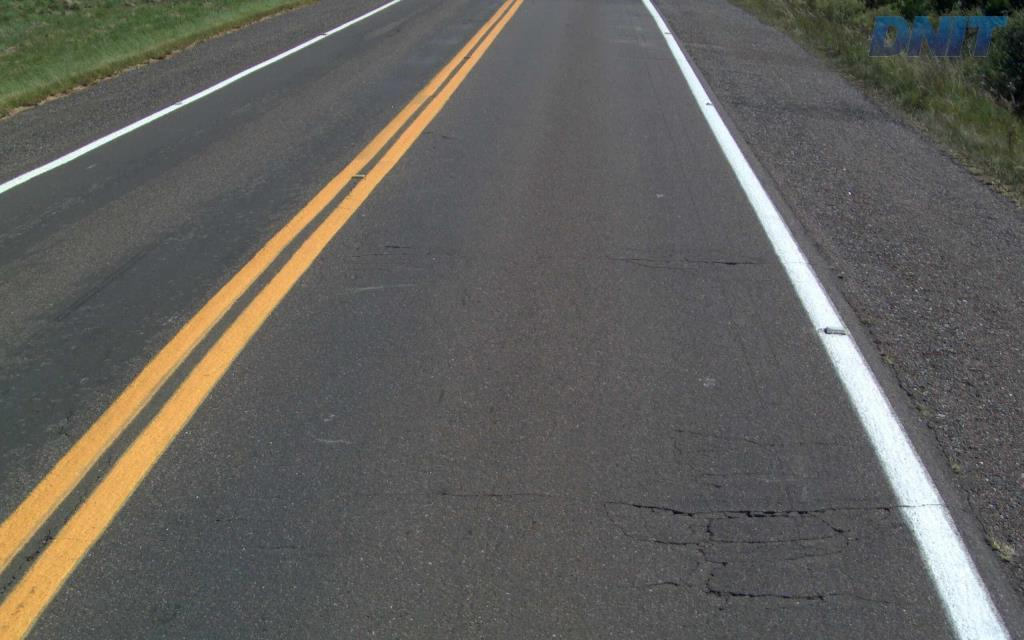crack: (702, 572, 772, 603)
